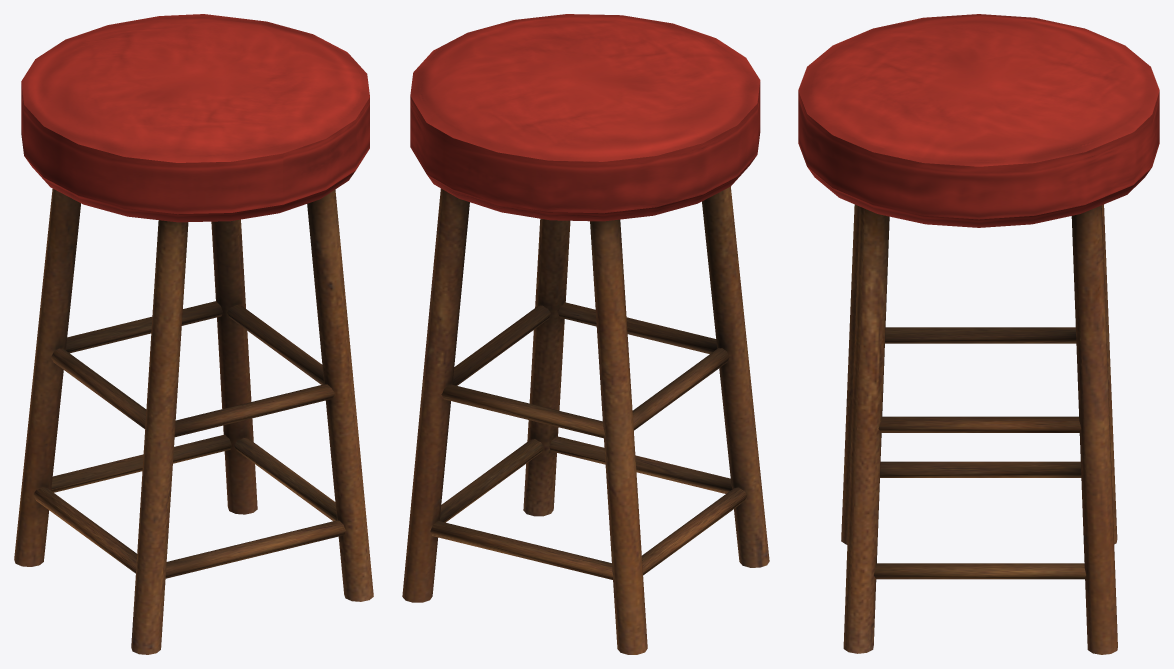
File: bar_stool.glb
3 views of the same model, side by side, from view 1: azimuth 30°, elevation 25°; view 2: azimuth 150°, elevation 25°; view 3: azimuth 270°, elevation 25° (orthographic). The views are drawn at different scales.
Visible parts, largest first — view 1: Cylinder001; view 2: Cylinder001; view 3: Cylinder001.
Part boxes in pixels (bbox=[...]): Cylinder001: bbox=[14, 14, 373, 654]; Cylinder001: bbox=[402, 14, 769, 654]; Cylinder001: bbox=[798, 14, 1159, 654].
Size of the model in its own units: 20.84 by 32.68 by 20.84.
Materials: 1 (1 with a texture image).
